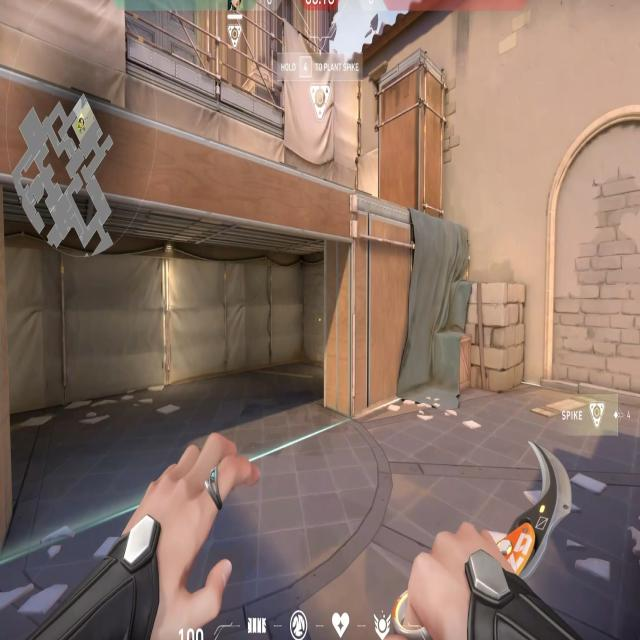A_Heaven_Box: (374, 45, 454, 212)
